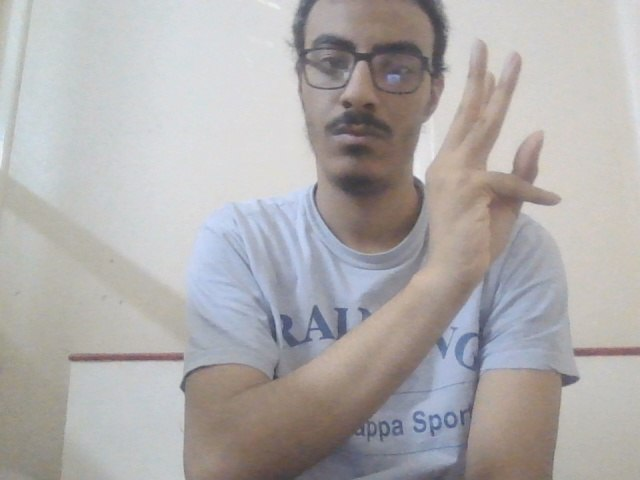Water: (419, 35, 567, 297)
